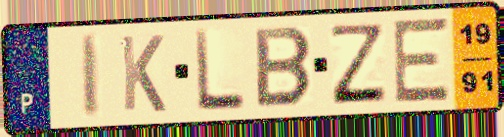B: (252, 25, 316, 110)
E: (392, 15, 453, 107)
I: (78, 32, 103, 121)
K: (118, 32, 169, 115)
L: (192, 27, 249, 115)
Z: (329, 22, 390, 107)
